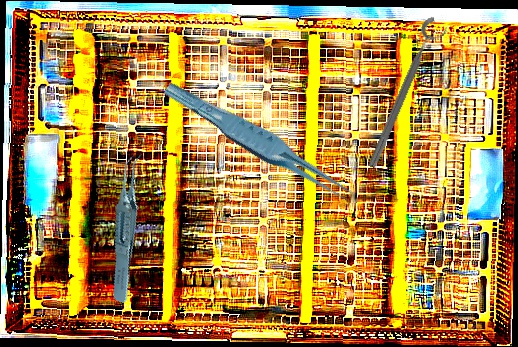Fixation Ring: (363, 14, 451, 174)
Tissue Forceps: (162, 68, 358, 219), (82, 150, 175, 304)
